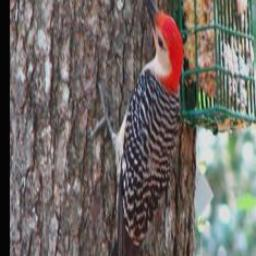Woodpecker: (85, 0, 183, 256)
